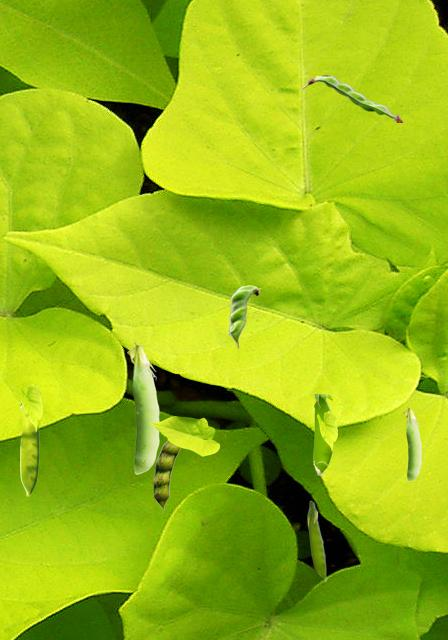pea: (301, 75, 402, 121), (127, 341, 158, 473), (228, 285, 260, 347), (153, 441, 180, 512), (20, 402, 38, 495), (313, 394, 333, 475), (307, 500, 326, 581), (403, 406, 420, 480)
